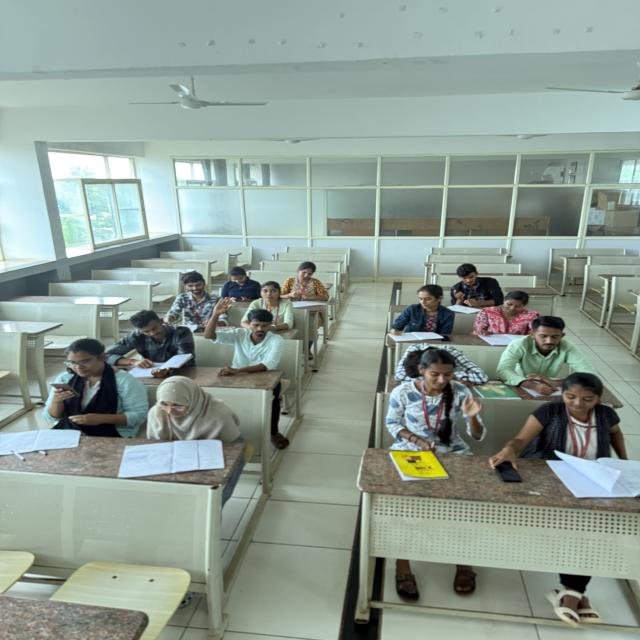Hand Rising: (207, 293, 286, 372)
Reading: (542, 366, 636, 482), (100, 306, 196, 378), (471, 286, 543, 342)
Sleeping: (393, 338, 483, 384)
Using Phone: (30, 330, 134, 432), (442, 261, 504, 305), (221, 266, 266, 306)
Writing: (499, 310, 596, 395), (386, 280, 459, 341), (282, 257, 332, 309)
